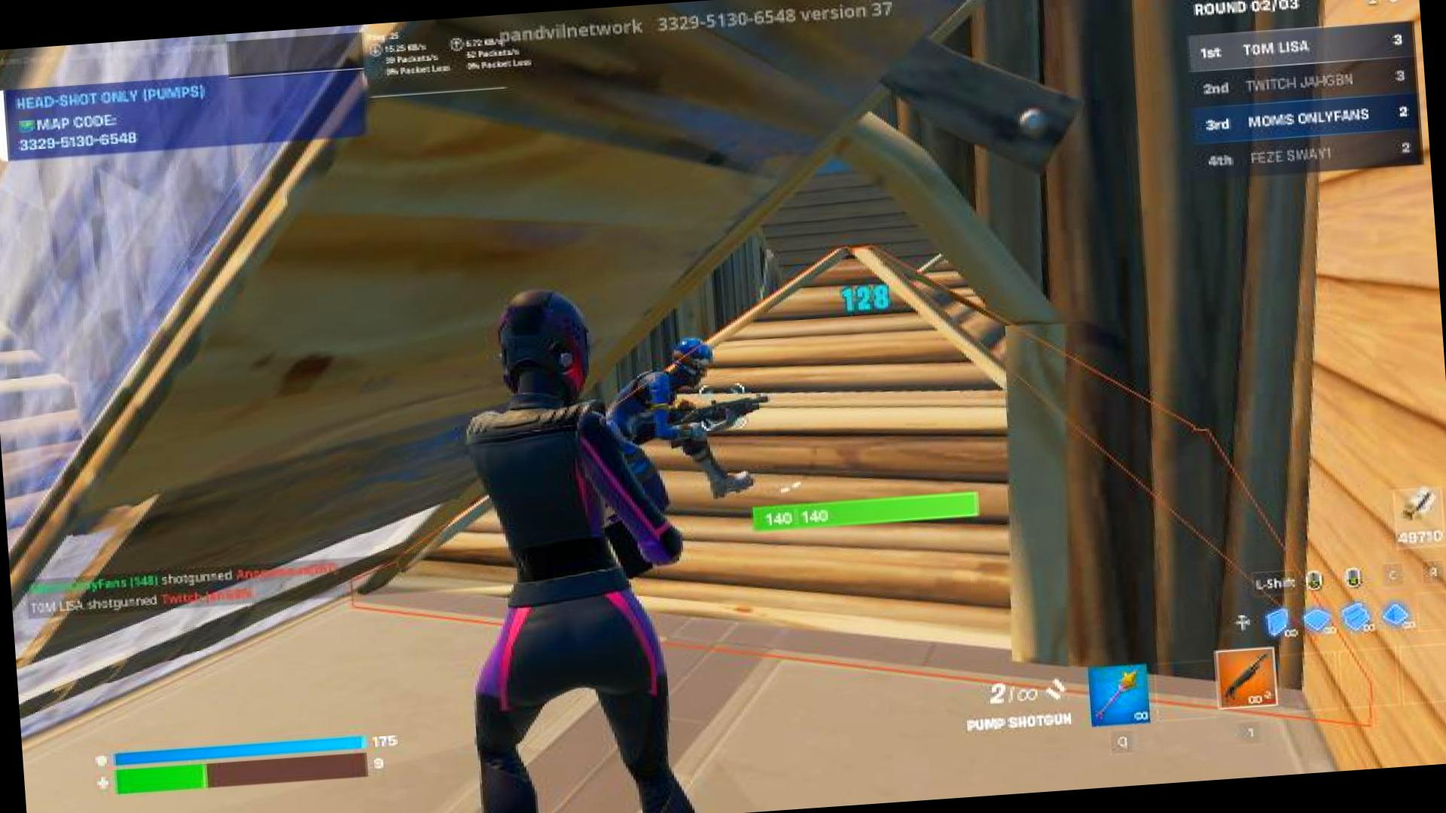player: (586, 327, 781, 520)
